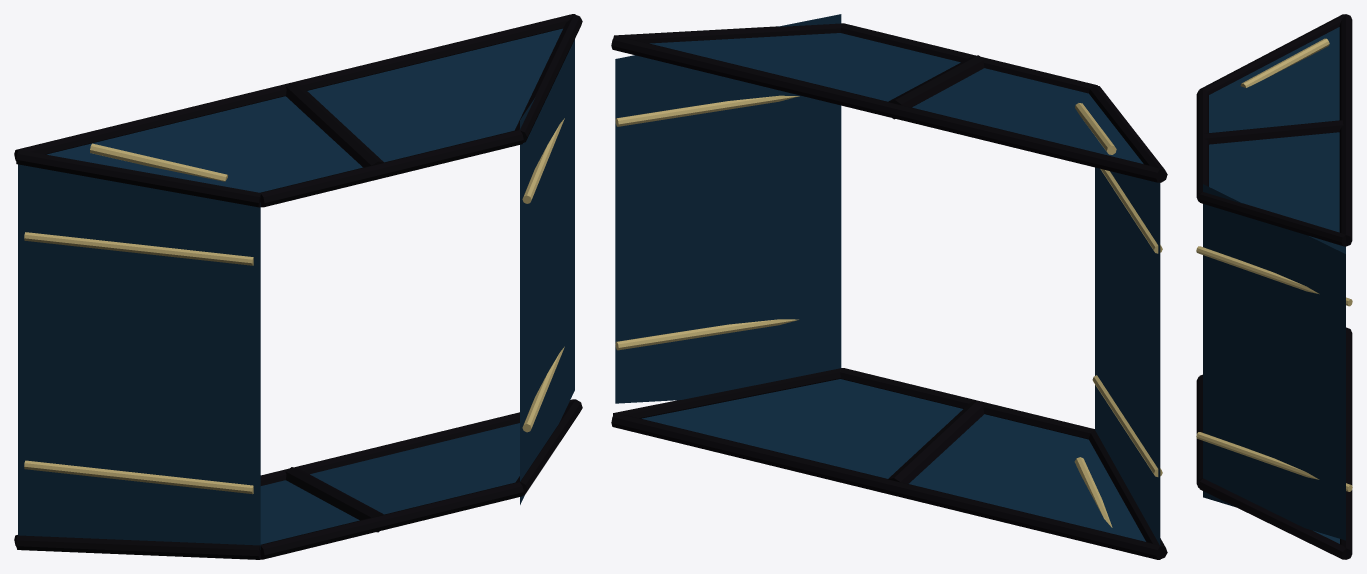
The model's file is CarCabin.obj.
The picture shows the model from 3 angles, left to right: view 1: azimuth 30°, elevation 25°; view 2: azimuth 150°, elevation 25°; view 3: azimuth 270°, elevation 25°; orthographic projection. The views are drawn at different scales.
Visible parts, largest first — view 1: CarCabin; view 2: CarCabin; view 3: CarCabin.
Boxes of the visible parts, x1,y1,x2,y2 form: CarCabin: (14,14,582,559); CarCabin: (611,14,1167,559); CarCabin: (1196,14,1352,559).
Bounding box in the file's own units: 249 × 170 × 73.3.
